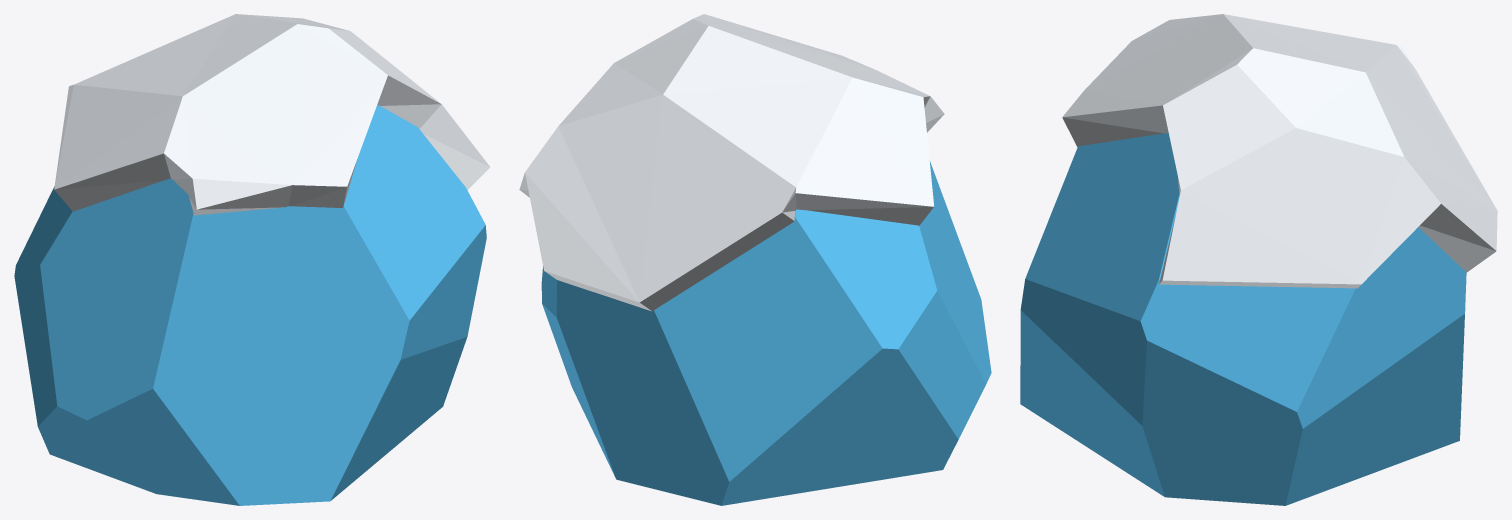
The model's file is SnowyRock_Split.fbx.
3 views of the same model, side by side, from view 1: azimuth 30°, elevation 25°; view 2: azimuth 150°, elevation 25°; view 3: azimuth 270°, elevation 25° (orthographic). The views are drawn at different scales.
Visible parts, largest first — view 1: SnowyRock_PieceA, SnowyRock_PieceB, SnowyRock_Snow_L, SnowyRock_Snow_R; view 2: SnowyRock_PieceA, SnowyRock_Snow_L, SnowyRock_Snow_R, SnowyRock_PieceB; view 3: SnowyRock_PieceB, SnowyRock_Snow_R, SnowyRock_Snow_L.
Part boxes in pixels (x1=…): SnowyRock_PieceA: x1=14, y1=178, x2=351, y2=505; SnowyRock_PieceB: x1=319, y1=105, x2=486, y2=489; SnowyRock_Snow_L: x1=54, y1=37, x2=328, y2=215; SnowyRock_Snow_R: x1=183, y1=14, x2=490, y2=207; SnowyRock_PieceA: x1=663, y1=161, x2=991, y2=505; SnowyRock_Snow_L: x1=652, y1=48, x2=944, y2=302; SnowyRock_Snow_R: x1=519, y1=14, x2=852, y2=311; SnowyRock_PieceB: x1=541, y1=266, x2=665, y2=491; SnowyRock_PieceB: x1=1020, y1=133, x2=1466, y2=505; SnowyRock_Snow_R: x1=1062, y1=33, x2=1497, y2=288; SnowyRock_Snow_L: x1=1070, y1=14, x2=1489, y2=197.
Size of the model in its own units: 9.72 by 8.59 by 9.38.
